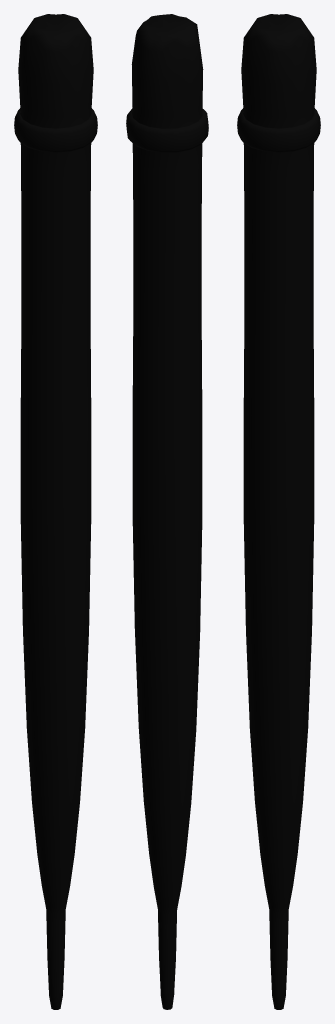
File: ASSET_UMBRELLA_01.fbx
3 views of the same model, side by side, from view 1: azimuth 90°, elevation 25°; view 2: azimuth 150°, elevation 25°; view 3: azimuth 270°, elevation 25° (orthographic).
Visible parts, largest first — view 1: polySurface2; view 2: polySurface2; view 3: polySurface2.
Part boxes in pixels (x1,y1,x2,y2): polySurface2: (14, 14, 97, 1009); polySurface2: (126, 14, 208, 1009); polySurface2: (237, 14, 320, 1009).
Size of the model in its own units: 0.5196 by 6.74 by 0.5196.
